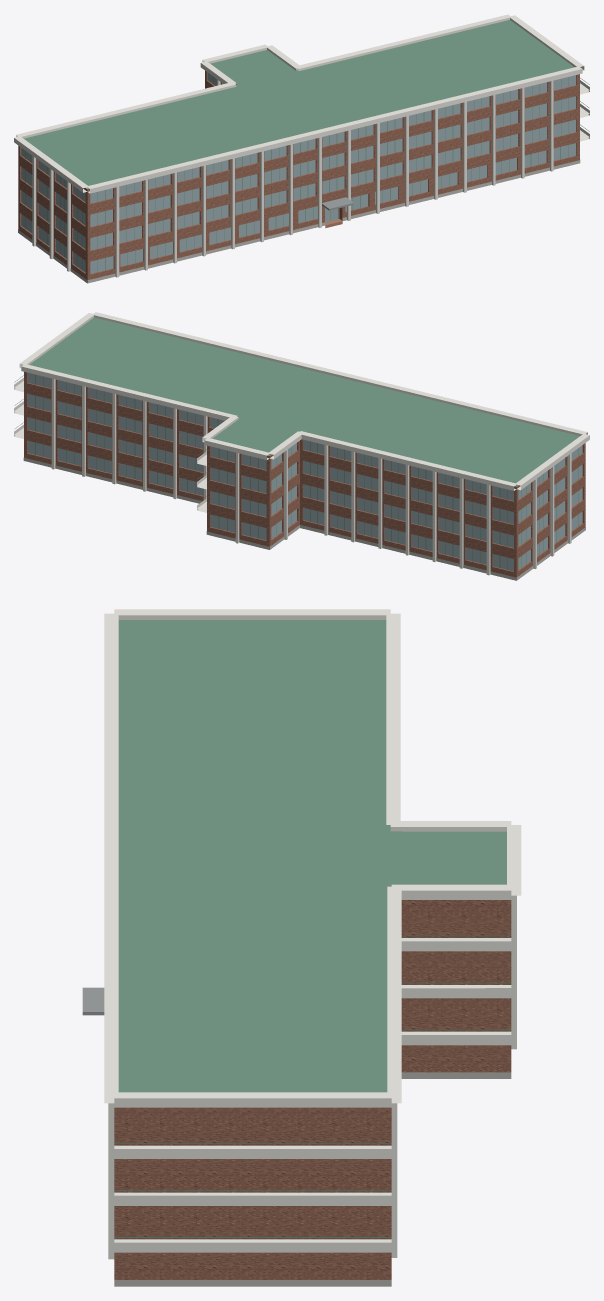
3 views of the same model, one above another, from view 1: azimuth 30°, elevation 25°; view 2: azimuth 150°, elevation 25°; view 3: azimuth 270°, elevation 25° (orthographic). The views are drawn at different scales.
Visible parts, largest first — view 1: b115951819__roof, b115951819__wall, b115951819__glass, b115951819__trim, b115951819__frame, b115951819__base; view 2: b115951819__roof, b115951819__wall, b115951819__glass, b115951819__trim, b115951819__frame, b115951819__base; view 3: b115951819__roof, b115951819__wall, b115951819__trim, b115951819__base, b115951819__frame.
Part boxes in pixels (x1,y1,x2,y2): b115951819__roof: (24, 20, 574, 189); b115951819__wall: (18, 71, 579, 282); b115951819__glass: (21, 73, 576, 273); b115951819__trim: (14, 14, 589, 277); b115951819__frame: (25, 77, 589, 271); b115951819__base: (18, 160, 580, 283); b115951819__roof: (29, 317, 579, 486); b115951819__wall: (24, 372, 585, 580); b115951819__glass: (27, 373, 582, 571); b115951819__trim: (14, 312, 589, 575); b115951819__frame: (14, 374, 578, 569); b115951819__base: (23, 457, 585, 580); b115951819__roof: (118, 620, 506, 1092); b115951819__wall: (114, 900, 511, 1279); b115951819__trim: (104, 609, 521, 1259); b115951819__base: (114, 1072, 511, 1286); b115951819__frame: (114, 935, 511, 1237).
Size of the model in its own units: 81.38 by 15.15 by 30.52.
Materials: 9 (1 with a texture image).
